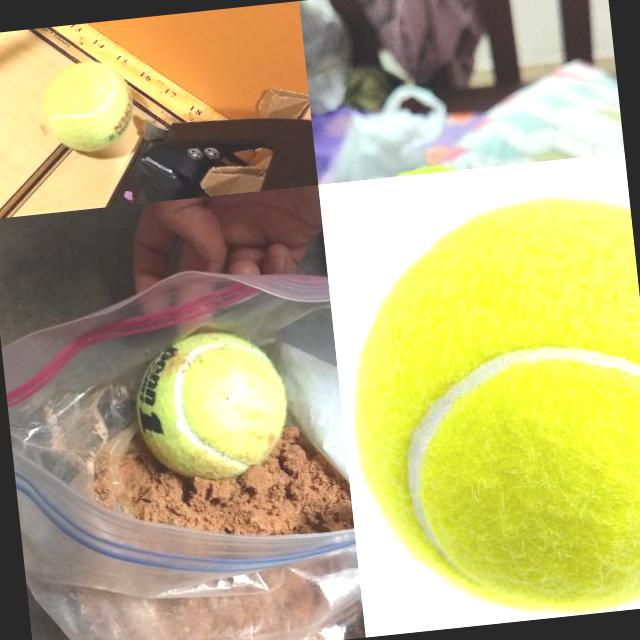tennis-ball: (330, 190, 640, 634), (128, 323, 296, 488), (38, 56, 138, 156)
